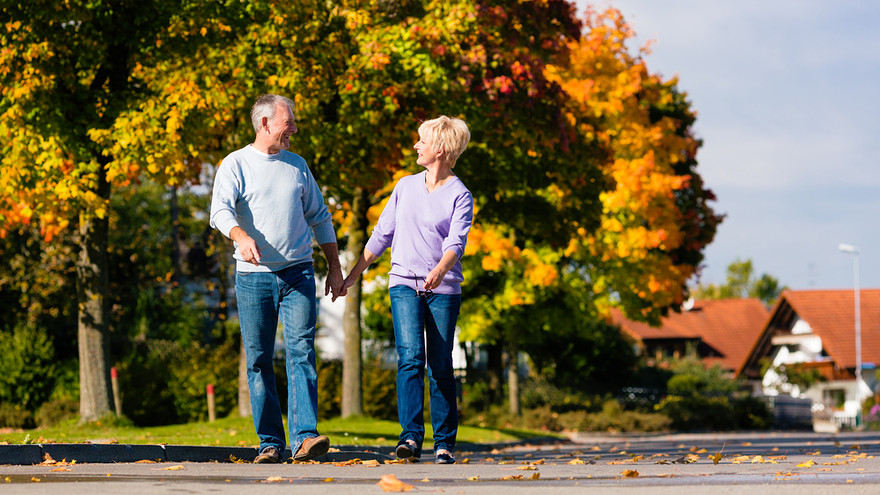Person: (190, 77, 361, 474), (342, 99, 483, 476)
